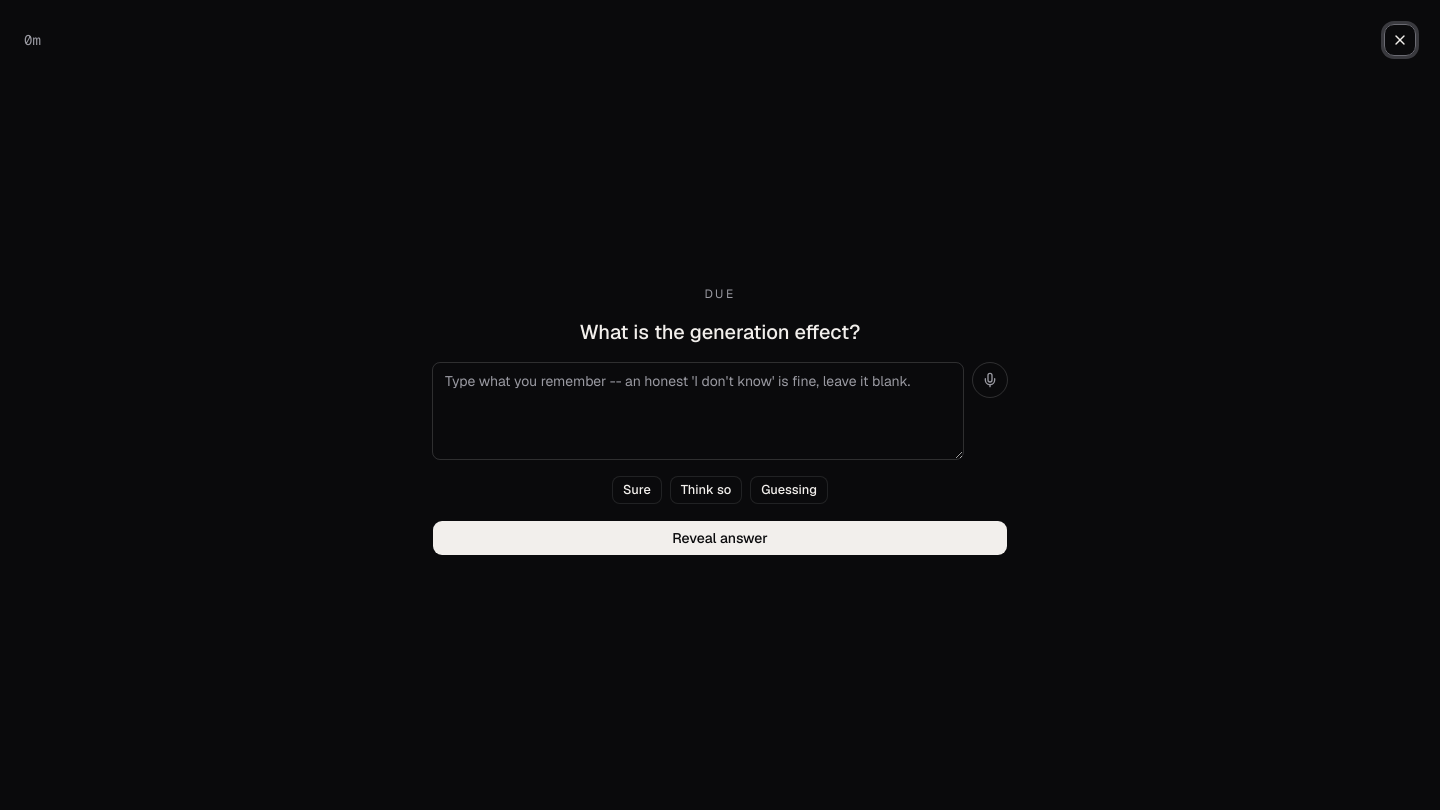
Test: RetrievalSessionOverlay › with nothing queued and no notes (every key holder, every no-agent user) the card shows nothing extra
Check: the text "What is the generation effect?" is shown, box [580, 319, 860, 345]
Click the button "Reveal answer" at {"x": 720, "y": 538}, box [432, 520, 1008, 556]
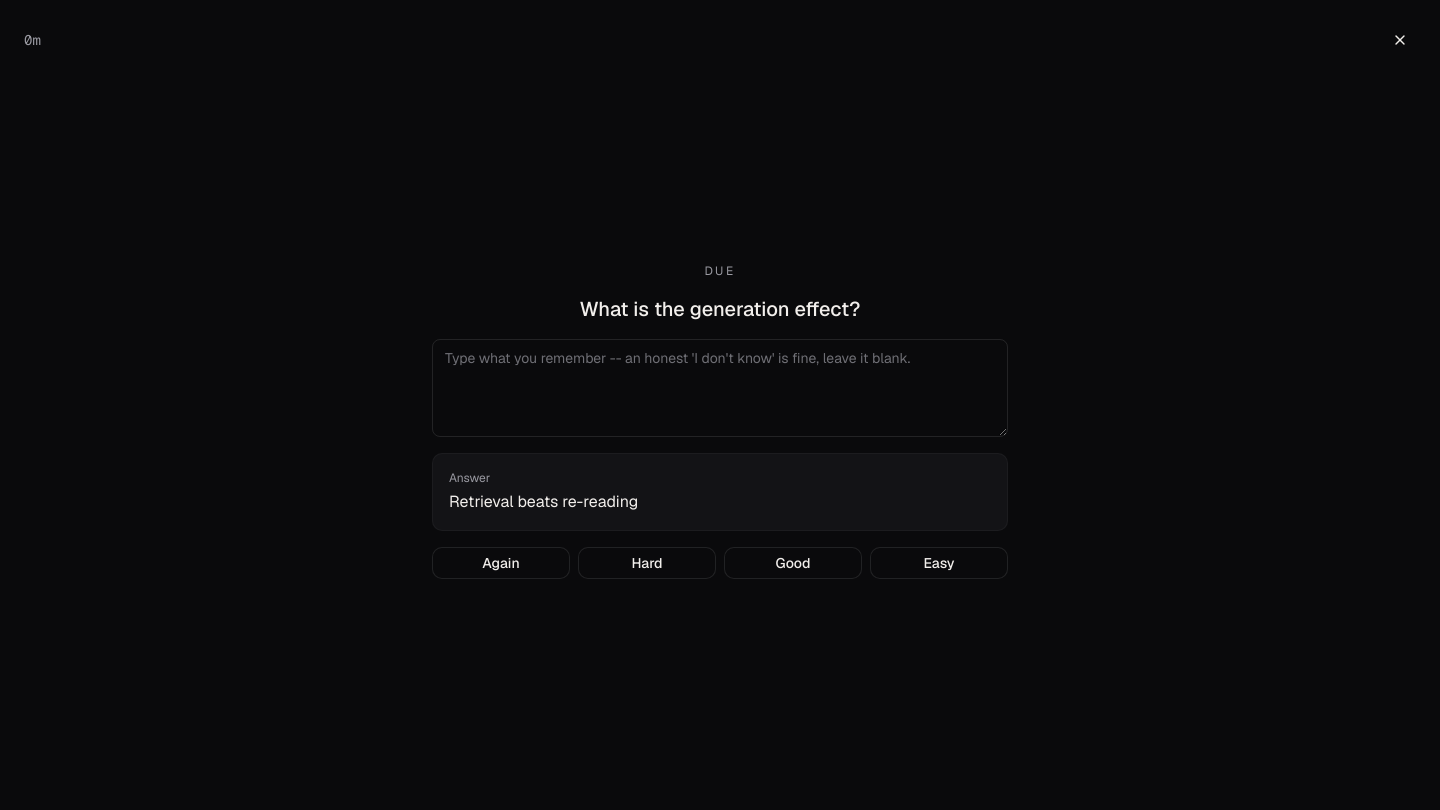
Check: the text "Retrieval beats re-reading" is shown, box [449, 491, 638, 512]
